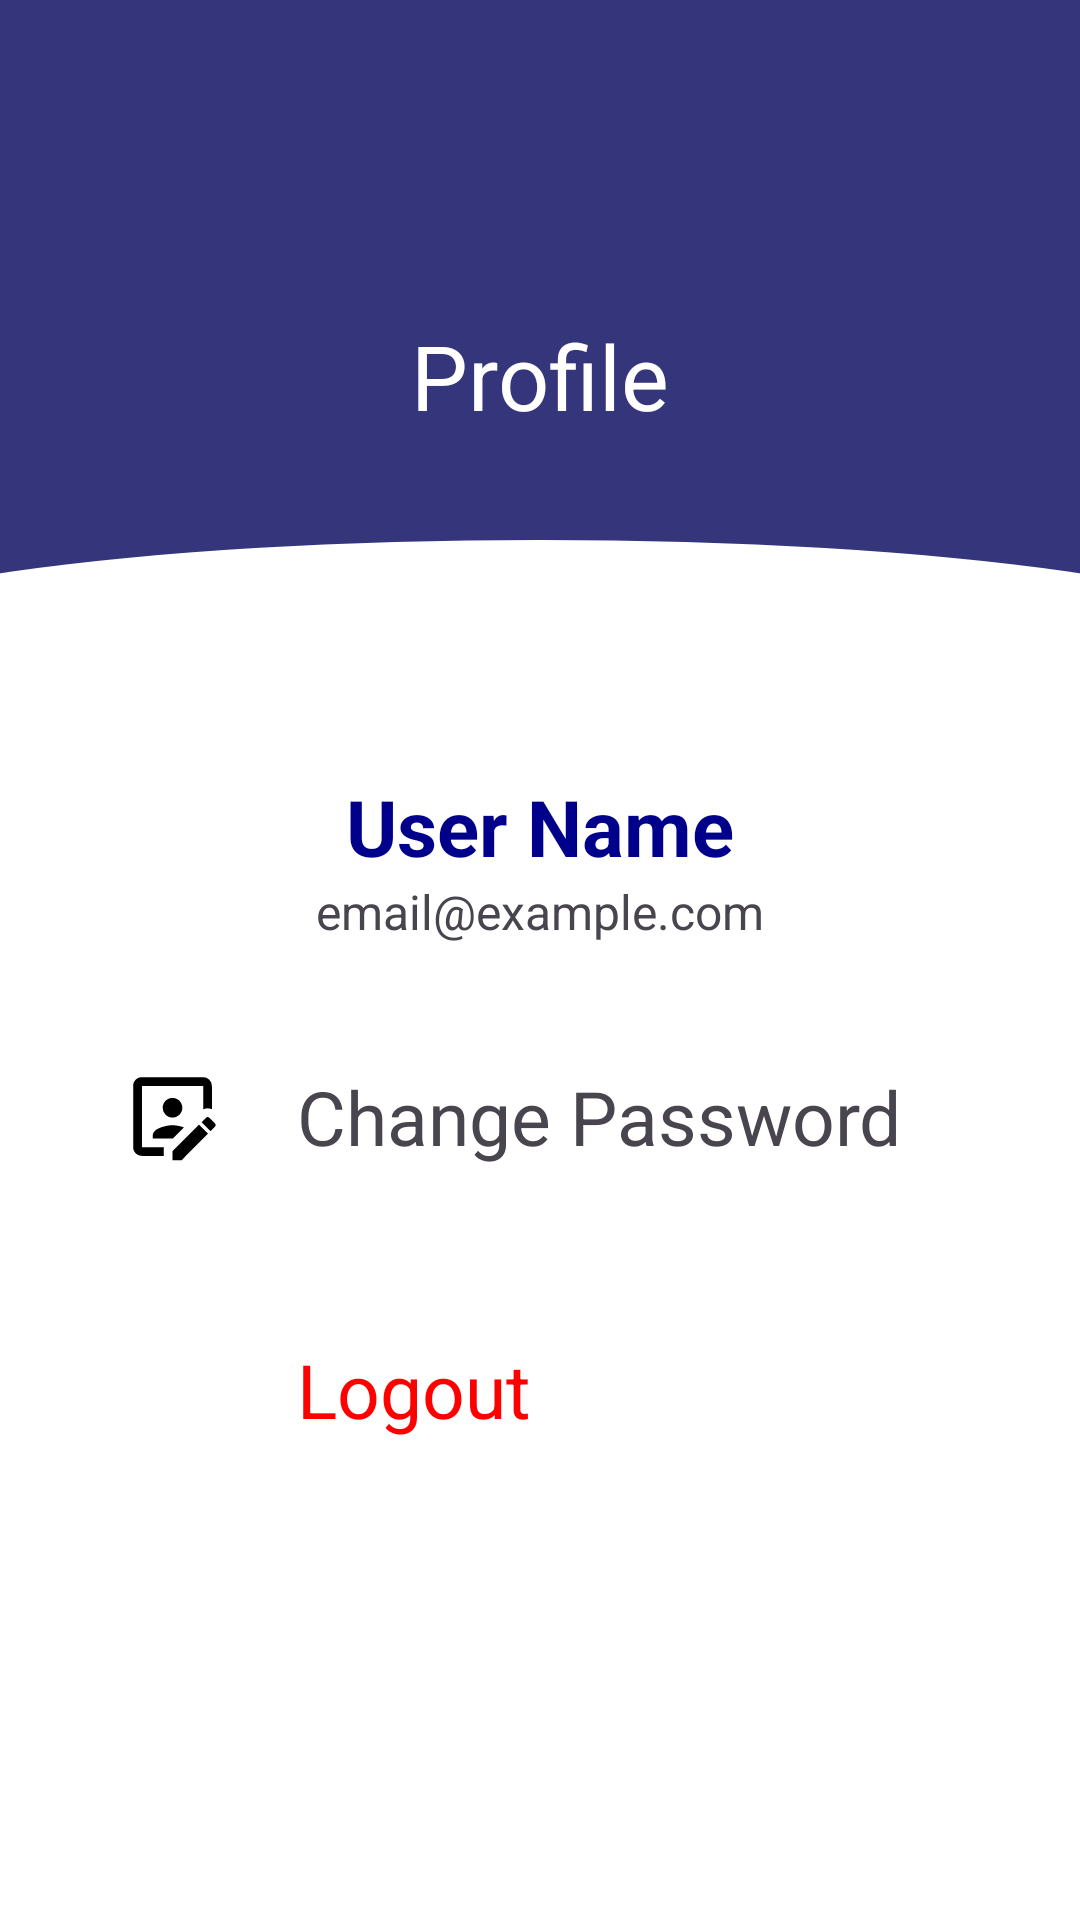

Point at icon controls on the screen. Image size 1080px×1920px, points as point (x, y).
edit: point (174, 1119)
